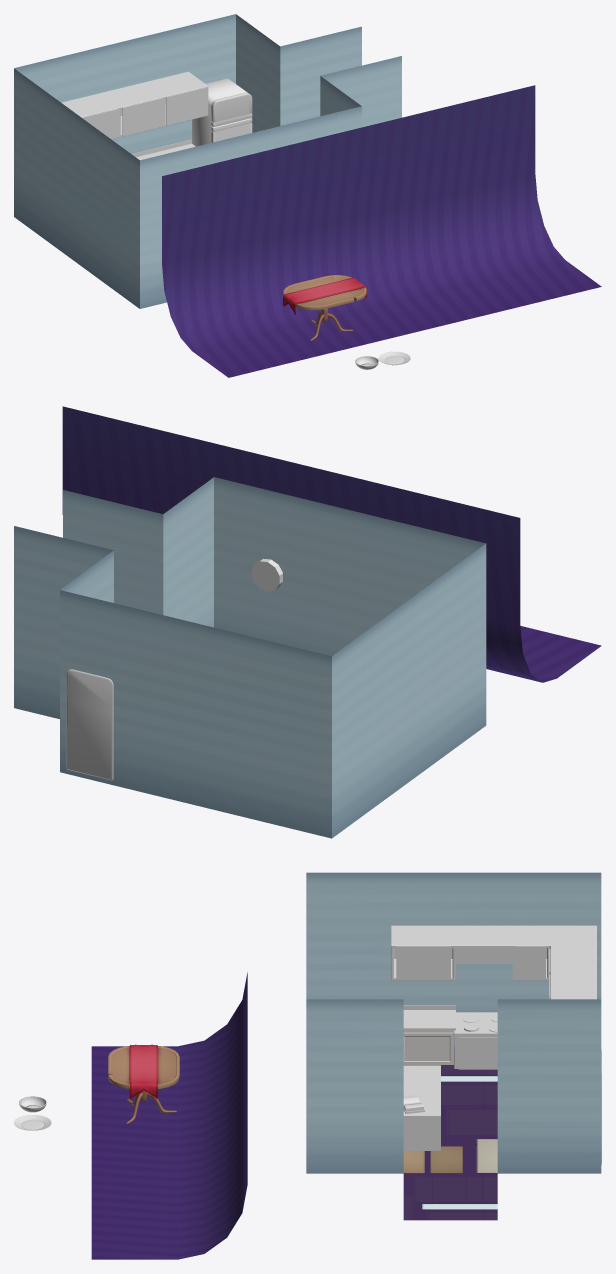
Rendered from Layout_2.fbx.
The picture shows the model from 3 angles, top to bottom: view 1: azimuth 30°, elevation 25°; view 2: azimuth 150°, elevation 25°; view 3: azimuth 270°, elevation 25°; orthographic projection. The views are drawn at different scales.
Parts seen in each view (by area): view 1: Walls.002, Walls, Cabinet, Kitchen.003, Table, Cube.003, Cube.004, Runner, Cube.005, Cube.001; view 2: Walls, Walls.002, Cube.003, Kitchen.001; view 3: Walls, Walls.002, Floor, Kitchen.003, Kitchen.001, Cabinet, Table, Cube.007, Cube, Runner, Oven.
Boxes of the visible parts, x1,y1,x2,y2 form: Walls.002: (162,85,601,377); Walls: (14,14,401,308); Cabinet: (82,87,206,138); Kitchen.003: (61,71,208,139); Table: (283,275,366,341); Cube.003: (192,78,247,146); Cube.004: (211,92,252,126); Runner: (283,278,366,314); Cube.005: (211,118,252,142); Cube.001: (132,139,195,159); Walls: (14,477,486,838); Walls.002: (62,406,601,682); Cube.003: (66,669,113,780); Kitchen.001: (251,558,282,591); Walls: (306,872,601,1173); Walls.002: (91,972,247,1259); Floor: (403,1047,497,1220); Kitchen.003: (391,925,596,999); Kitchen.001: (403,1012,497,1150); Cabinet: (396,946,550,999); Table: (108,1046,179,1124); Cube.007: (403,1032,453,1064); Cube: (403,1005,455,1064); Runner: (129,1044,158,1098); Oven: (458,1037,497,1069).
Bounding box in the file's own units: 993 × 389 × 1156.
